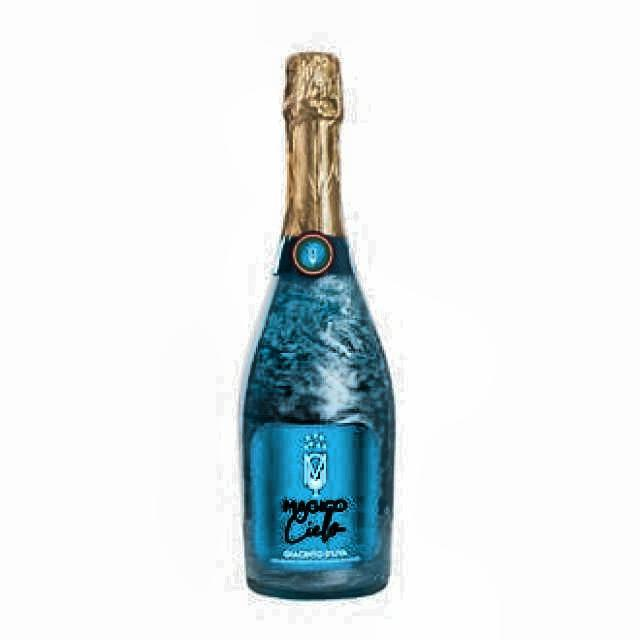glass: (238, 52, 397, 604)
